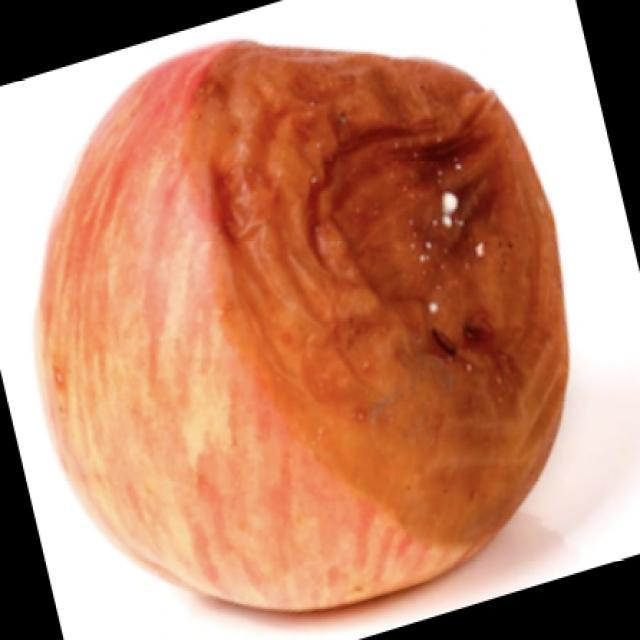Rotten: (70, 40, 562, 620)
